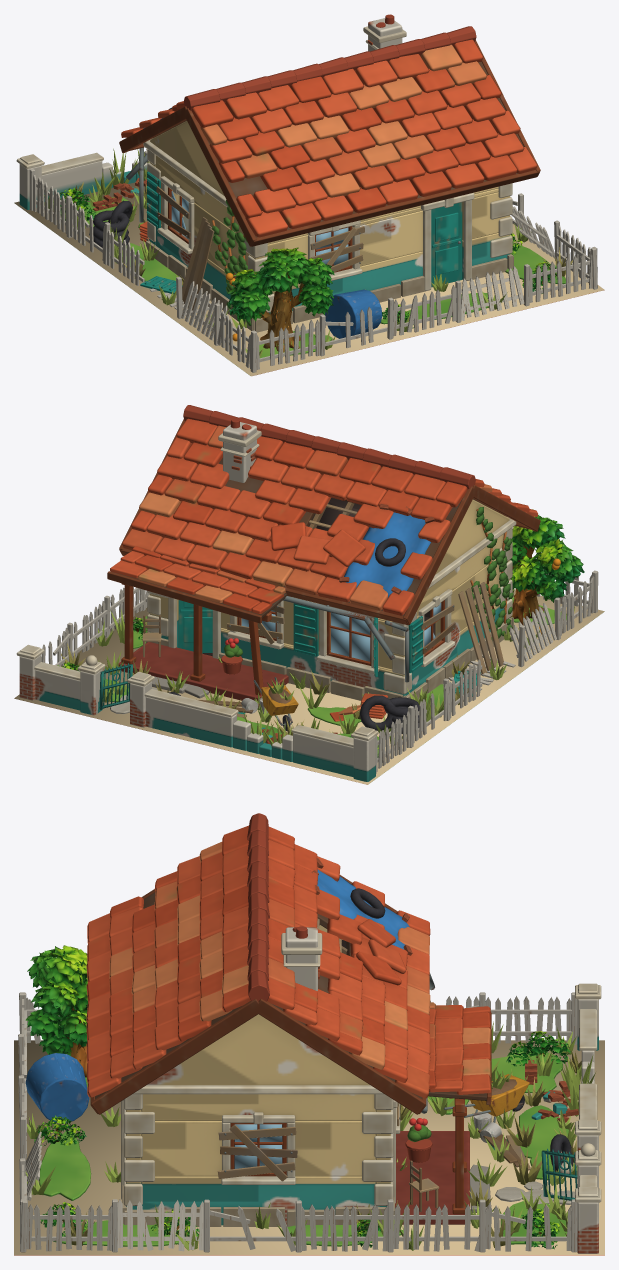
Rendered from Lot_Casa.fbx.
3 renders of one model, top to bottom at view 1: azimuth 30°, elevation 25°; view 2: azimuth 150°, elevation 25°; view 3: azimuth 270°, elevation 25°, orthographic. The views are drawn at different scales.
Visible parts, largest first — view 1: CASA_roof, CASA_house, CASA_boundary, CASA_garden, CASA_pad, CASA_junk; view 2: CASA_roof, CASA_house, CASA_boundary, CASA_porch, CASA_garden, CASA_pad, CASA_junk; view 3: CASA_roof, CASA_house, CASA_boundary, CASA_garden, CASA_pad, CASA_porch, CASA_junk.
Part boxes in pixels (box(x1,y1,x2,y2)): CASA_roof: box(119, 26, 540, 246); CASA_house: box(89, 14, 513, 332); CASA_boundary: box(16, 150, 597, 372); CASA_garden: box(44, 148, 572, 358); CASA_pad: box(14, 182, 604, 376); CASA_junk: box(93, 192, 382, 341); CASA_roof: box(119, 405, 540, 625); CASA_house: box(146, 418, 516, 718); CASA_boundary: box(16, 564, 598, 781); CASA_porch: box(107, 546, 288, 700); CASA_garden: box(58, 509, 584, 757); CASA_pad: box(14, 589, 604, 784); CASA_junk: box(168, 671, 480, 733); CASA_roof: box(86, 813, 430, 1114); CASA_house: box(121, 925, 530, 1226); CASA_boundary: box(18, 983, 601, 1253); CASA_garden: box(25, 945, 595, 1250); CASA_pad: box(14, 1040, 604, 1255); CASA_porch: box(395, 1002, 491, 1224); CASA_junk: box(25, 1053, 573, 1171).
Bounding box in the file's own units: 10 × 5.77 × 11.6.
Materials: 1 (1 with a texture image).
